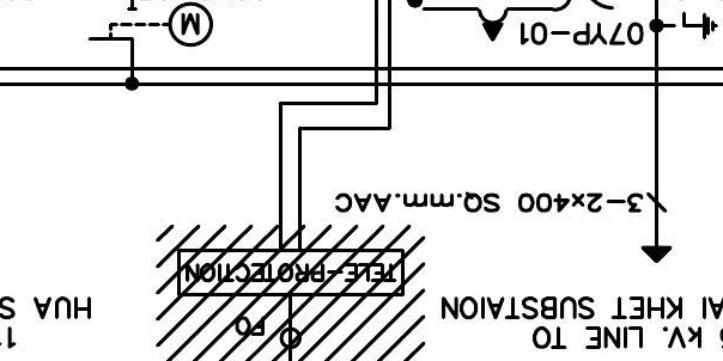115_1way_ds_w_motor: (87, 0, 215, 47)
115_gs: (670, 10, 719, 41)
tele_protection: (177, 248, 405, 297)
